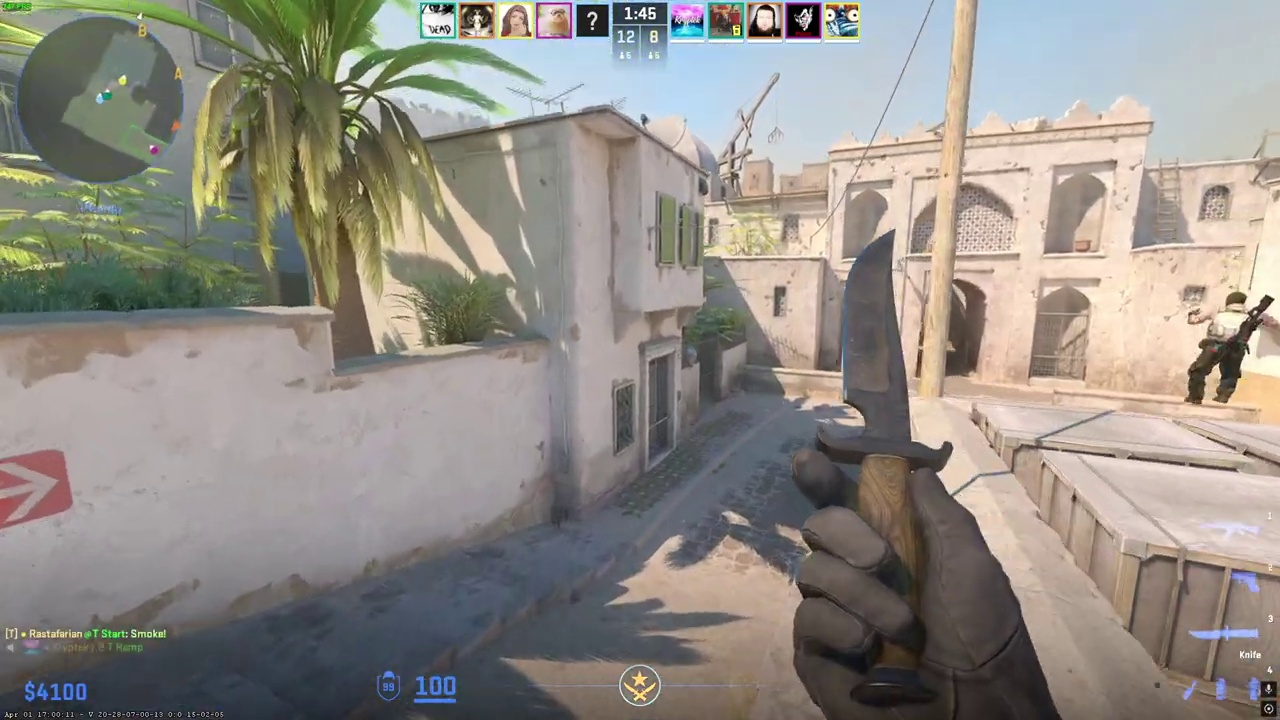Terrorist: (1183, 289, 1256, 409)
